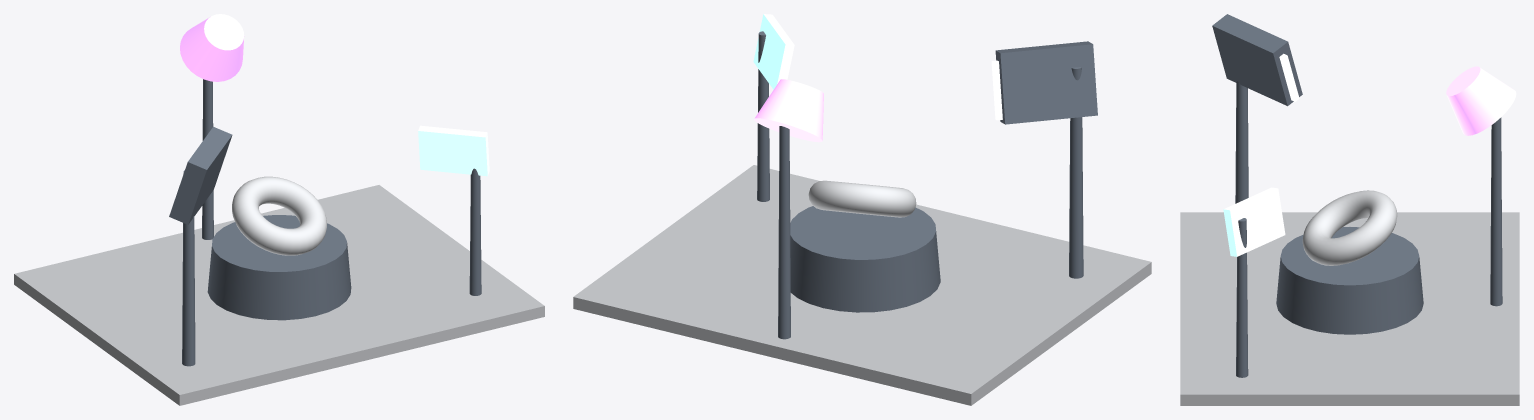
The model's file is design-lighting.glb.
3 views of the same model, side by side, from view 1: azimuth 30°, elevation 25°; view 2: azimuth 150°, elevation 25°; view 3: azimuth 270°, elevation 25° (orthographic). The views are drawn at different scales.
Parts seen in each view (by area): view 1: StudioFloor, Podium, SubjectObject, RimHead, FillPanel, KeyBox, KeyPole, FillPole, RimPole; view 2: StudioFloor, Podium, KeyBox, SubjectObject, RimHead, RimPole, KeyPole, FillPanel, FillPole; view 3: StudioFloor, Podium, SubjectObject, KeyBox, RimHead, FillPanel, RimPole, FillPole, KeyPole, KeyDiffuser.
Boxes of the visible parts, left/top/right/bottom form: StudioFloor: left=14, top=185, right=544, bottom=405; Podium: left=207, top=215, right=351, bottom=320; SubjectObject: left=232, top=176, right=326, bottom=255; RimHead: left=180, top=14, right=244, bottom=81; FillPanel: left=418, top=125, right=489, bottom=176; KeyBox: left=169, top=127, right=232, bottom=224; KeyPole: left=182, top=170, right=195, bottom=366; FillPole: left=469, top=168, right=481, bottom=295; RimPole: left=202, top=79, right=213, bottom=239; StudioFloor: left=573, top=165, right=1151, bottom=405; Podium: left=790, top=206, right=940, bottom=312; KeyBox: left=995, top=41, right=1097, bottom=124; SubjectObject: left=808, top=180, right=916, bottom=217; RimHead: left=754, top=79, right=823, bottom=142; RimPole: left=778, top=126, right=790, bottom=339; KeyPole: left=1069, top=67, right=1083, bottom=278; FillPanel: left=753, top=14, right=794, bottom=89; FillPole: left=757, top=31, right=769, bottom=201; StudioFloor: left=1180, top=212, right=1519, bottom=405; Podium: left=1276, top=227, right=1423, bottom=334; SubjectObject: left=1302, top=190, right=1397, bottom=265; KeyBox: left=1212, top=14, right=1302, bottom=106; RimHead: left=1446, top=66, right=1516, bottom=135; FillPanel: left=1223, top=187, right=1285, bottom=256; RimPole: left=1490, top=117, right=1502, bottom=306; FillPole: left=1236, top=218, right=1248, bottom=377; KeyPole: left=1235, top=81, right=1248, bottom=203; KeyDiffuser: left=1279, top=53, right=1299, bottom=101.
Bounding box in the file's own units: 2.8 × 1.76 × 2.2.
